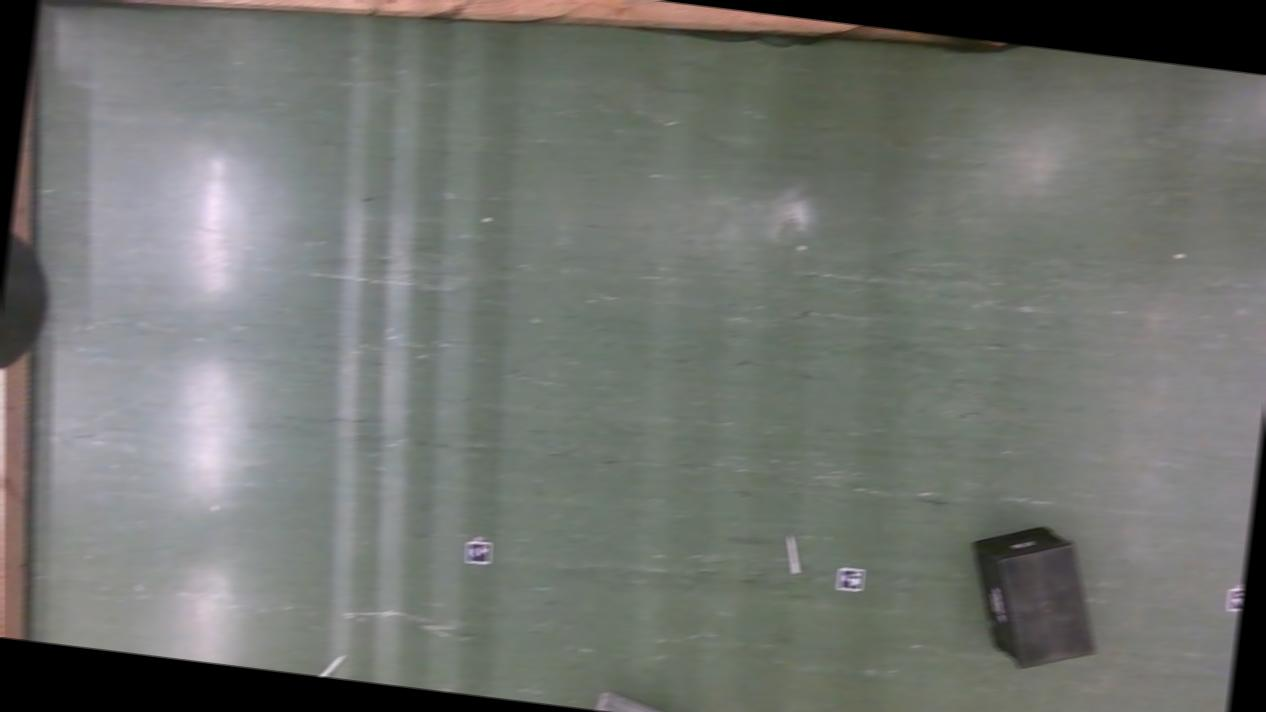probes: (781, 532, 802, 574), (317, 652, 345, 679)
rako: (958, 516, 1110, 674)
